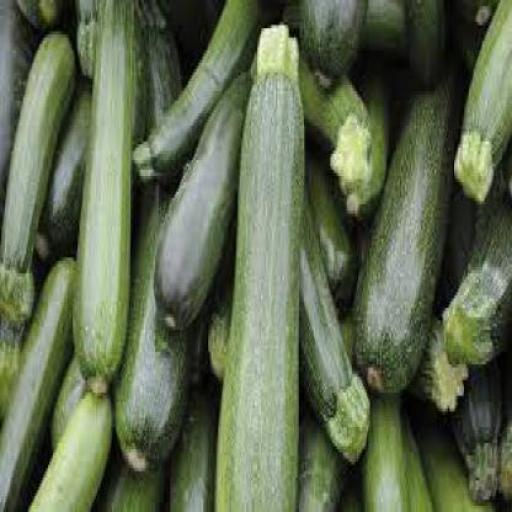biodegradable: (214, 16, 302, 508), (351, 53, 464, 393), (112, 0, 188, 469), (36, 0, 148, 265), (152, 66, 249, 330), (129, 0, 264, 182), (73, 0, 134, 390), (0, 28, 75, 325), (299, 163, 368, 459), (0, 251, 75, 510), (439, 163, 511, 361), (297, 298, 355, 509), (451, 0, 510, 198), (23, 383, 112, 509), (299, 50, 368, 204), (165, 305, 217, 509), (0, 0, 42, 251), (34, 81, 92, 261), (404, 396, 496, 509), (302, 138, 355, 314), (281, 0, 406, 69), (360, 389, 431, 509), (446, 361, 499, 499), (342, 56, 388, 210), (429, 172, 476, 318), (94, 412, 163, 509), (297, 0, 370, 85), (407, 314, 466, 408), (206, 210, 233, 377), (51, 348, 84, 450), (402, 0, 444, 79), (0, 320, 22, 469), (494, 364, 510, 506), (72, 0, 99, 76), (16, 0, 64, 28), (340, 468, 359, 509)
